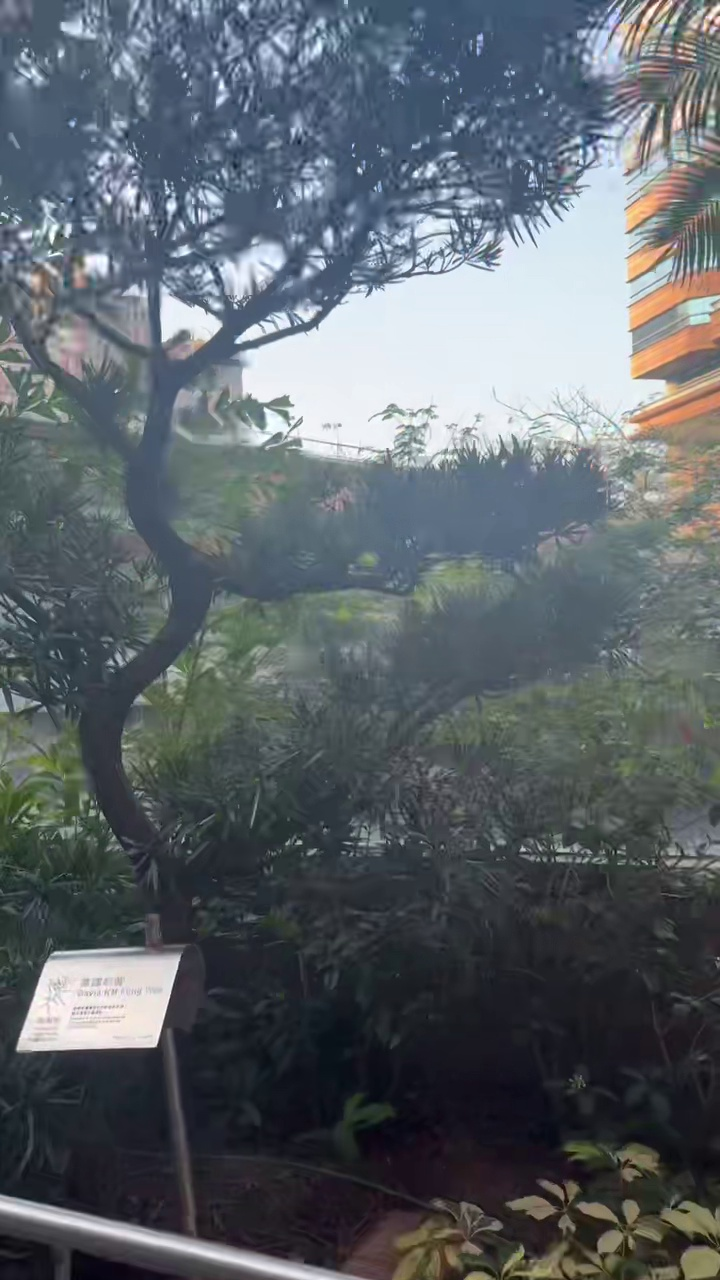Podocarpus macrophyllus: (0, 0, 607, 940)
